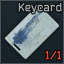Keycard with a blue marking: (0, 0, 64, 64)
